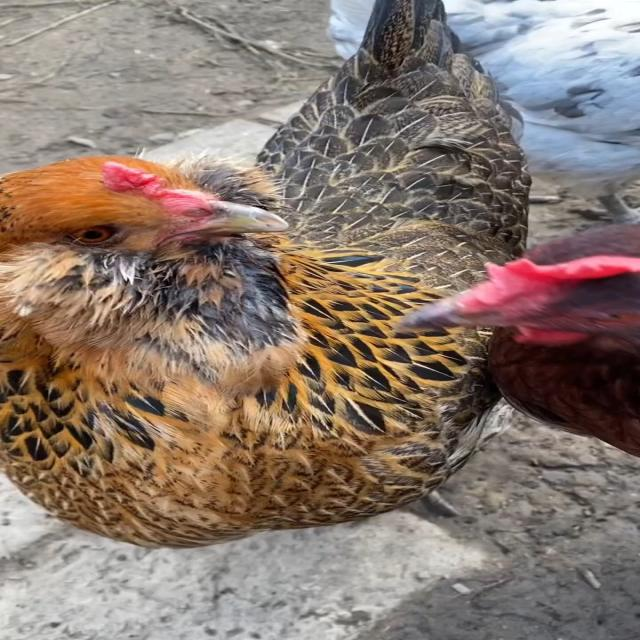allo preening: (2, 1, 640, 561)
